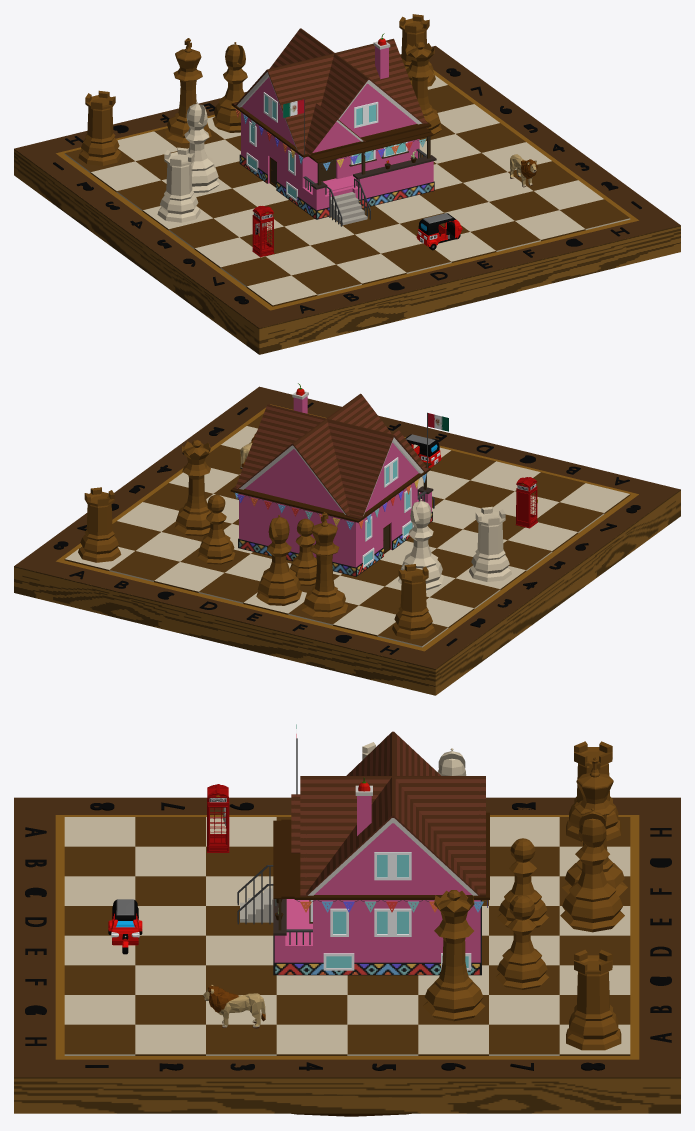
The picture shows the model from 3 angles, top to bottom: view 1: azimuth 30°, elevation 25°; view 2: azimuth 150°, elevation 25°; view 3: azimuth 270°, elevation 25°; orthographic projection. The views are drawn at different scales.
Visible parts, largest first — view 1: Cube.002, Cube.1005, VEHICLES_TUC_TUC, OBJRANDOM_PHONEBOOTH, ANIMAL_LEON; view 2: Cube.002, Cube.1005, OBJRANDOM_PHONEBOOTH, VEHICLES_TUC_TUC; view 3: Cube.002, Cube.1005, ANIMAL_LEON, VEHICLES_TUC_TUC, OBJRANDOM_PHONEBOOTH.
Part boxes in pixels (x1,y1,x2,y2): Cube.002: [14, 14, 680, 354]; Cube.1005: [231, 28, 436, 226]; VEHICLES_TUC_TUC: [416, 213, 462, 250]; OBJRANDOM_PHONEBOOTH: [252, 206, 274, 257]; ANIMAL_LEON: [510, 154, 537, 187]; Cube.002: [14, 386, 680, 695]; Cube.1005: [230, 383, 448, 576]; OBJRANDOM_PHONEBOOTH: [515, 477, 537, 528]; VEHICLES_TUC_TUC: [405, 434, 441, 467]; Cube.002: [14, 741, 680, 1113]; Cube.1005: [237, 724, 489, 975]; ANIMAL_LEON: [203, 985, 265, 1028]; VEHICLES_TUC_TUC: [108, 899, 142, 954]; OBJRANDOM_PHONEBOOTH: [207, 784, 229, 852].
Size of the model in its own units: 3981 by 1636 by 4012.
Materials: 81 (4 with a texture image).
